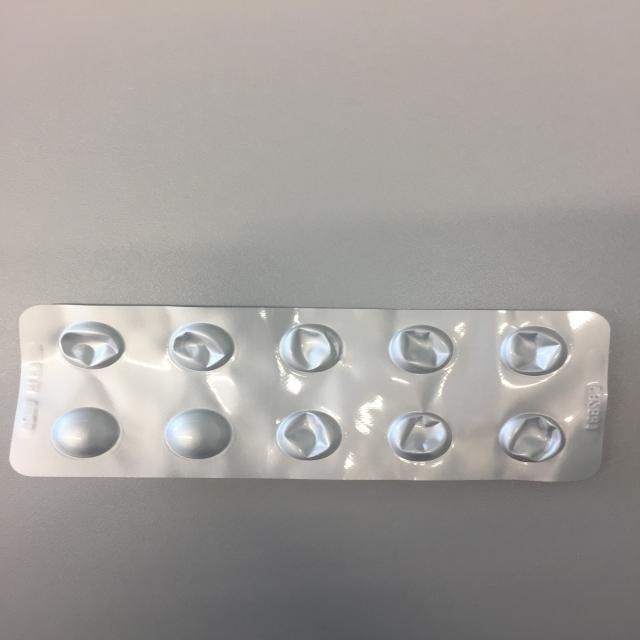Empty: (272, 406, 348, 464), (53, 317, 131, 373), (274, 321, 350, 375), (384, 410, 461, 463), (495, 324, 573, 376), (164, 320, 236, 374), (384, 324, 458, 376), (498, 412, 570, 464)
Pill: (160, 406, 239, 462), (46, 404, 124, 460)
